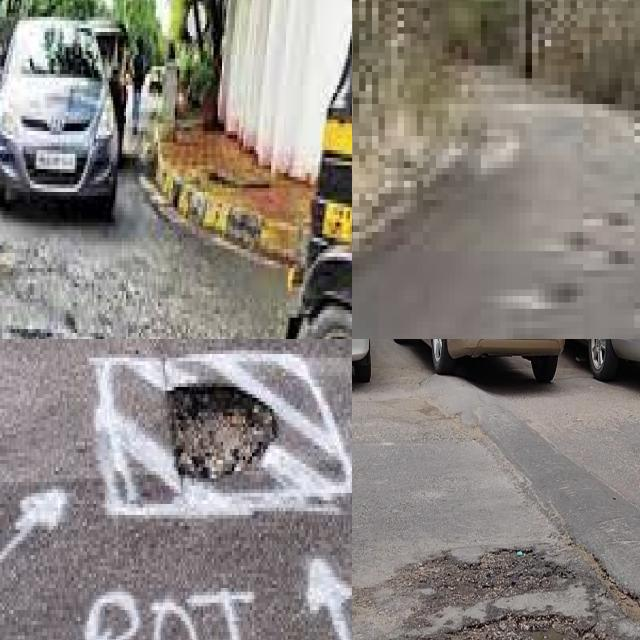Pothole: (500, 187, 640, 315), (167, 387, 281, 486), (412, 544, 554, 605), (452, 618, 598, 640)
